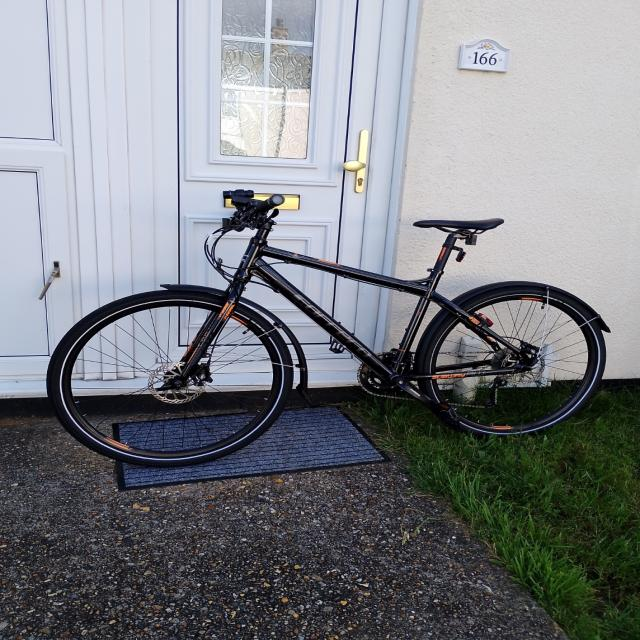bicycle: (45, 188, 610, 467)
